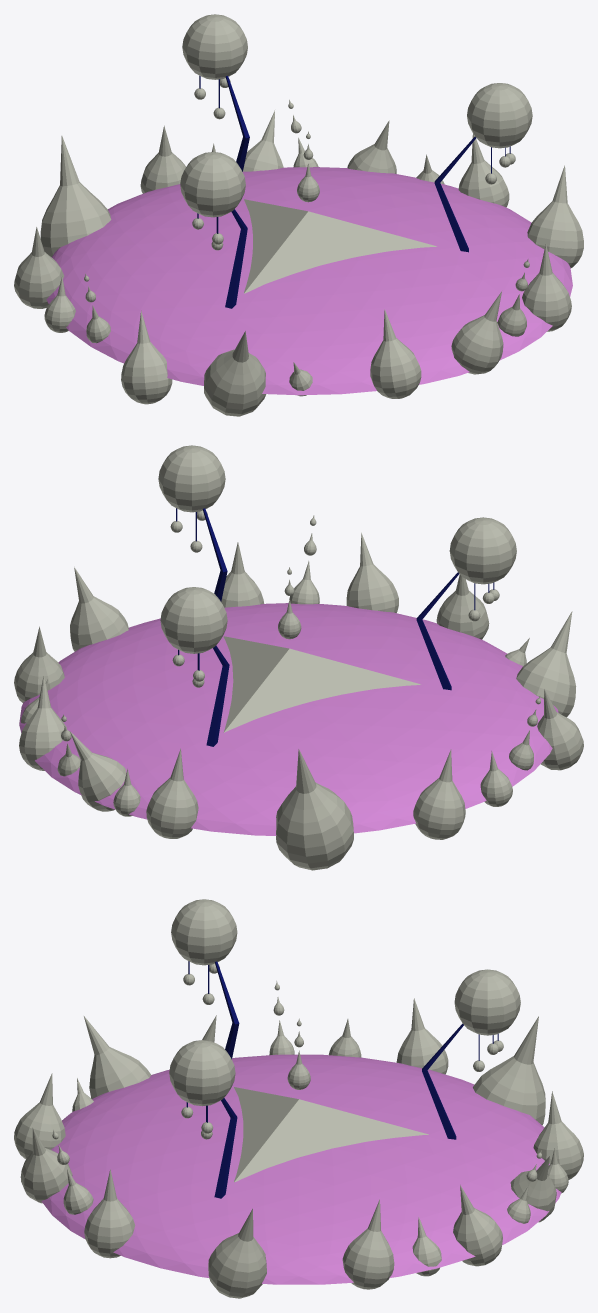
File: glowglobetree1.dae
3 renders of one model, top to bottom at view 1: azimuth 30°, elevation 25°; view 2: azimuth 150°, elevation 25°; view 3: azimuth 270°, elevation 25°, orthographic. The views are drawn at different scales.
Parts seen in each view (by area): view 1: Icosphere, Cone, Sphere_023, Sphere, Sphere_020, Sphere_008, Sphere_012, Sphere_024, Sphere_019, Sphere_016, Sphere_017, Sphere_006 (+12 smaller); view 2: Icosphere, Cone, Sphere_023, Sphere, Sphere_012, Sphere_008, Sphere_020, Sphere_006, Sphere_005, Sphere_024, Sphere_022, Sphere_017 (+13 smaller); view 3: Icosphere, Cone, Sphere, Sphere_023, Sphere_008, Sphere_012, Sphere_024, Sphere_018, Sphere_007, Sphere_020, Sphere_021, Sphere_017 (+11 smaller).
Part boxes in pixels (left/top/right/bottom): Icosphere: left=46, top=167, right=572, bottom=395; Cone: left=244, top=199, right=436, bottom=293; Sphere_023: left=40, top=136, right=111, bottom=257; Sphere: left=180, top=152, right=245, bottom=250; Sphere_020: left=204, top=331, right=266, bottom=416; Sphere_008: left=182, top=14, right=247, bottom=79; Sphere_012: left=467, top=83, right=532, bottom=148; Sphere_024: left=527, top=165, right=583, bottom=268; Sphere_019: left=121, top=310, right=172, bottom=404; Sphere_016: left=370, top=309, right=421, bottom=398; Sphere_017: left=451, top=291, right=503, bottom=374; Sphere_006: left=14, top=227, right=64, bottom=308; Icosphere: left=19, top=603, right=558, bottom=835; Cone: left=223, top=636, right=420, bottom=732; Sphere_023: left=276, top=749, right=353, bottom=870; Sphere: left=449, top=517, right=516, bottom=621; Sphere_012: left=158, top=445, right=225, bottom=512; Sphere_008: left=160, top=587, right=227, bottom=653; Sphere_020: left=516, top=611, right=576, bottom=717; Sphere_006: left=413, top=749, right=465, bottom=839; Sphere_005: left=146, top=748, right=198, bottom=838; Sphere_024: left=70, top=567, right=128, bottom=651; Sphere_022: left=70, top=731, right=126, bottom=811; Sphere_017: left=346, top=532, right=398, bottom=612; Icosphere: left=41, top=1054, right=561, bottom=1284; Cone: left=234, top=1087, right=428, bottom=1182; Sphere: left=171, top=899, right=237, bottom=1004; Sphere_023: left=473, top=1016, right=545, bottom=1125; Sphere_008: left=454, top=969, right=520, bottom=1035; Sphere_012: left=169, top=1040, right=235, bottom=1106; Sphere_024: left=208, top=1208, right=266, bottom=1298; Sphere_018: left=342, top=1199, right=394, bottom=1289; Sphere_007: left=84, top=1169, right=135, bottom=1258; Sphere_020: left=84, top=1016, right=151, bottom=1098; Sphere_021: left=453, top=1185, right=502, bottom=1266; Sphere_017: left=20, top=1128, right=72, bottom=1203.
Bounding box in the file's own units: 48.05 × 48.93 × 22.26.
